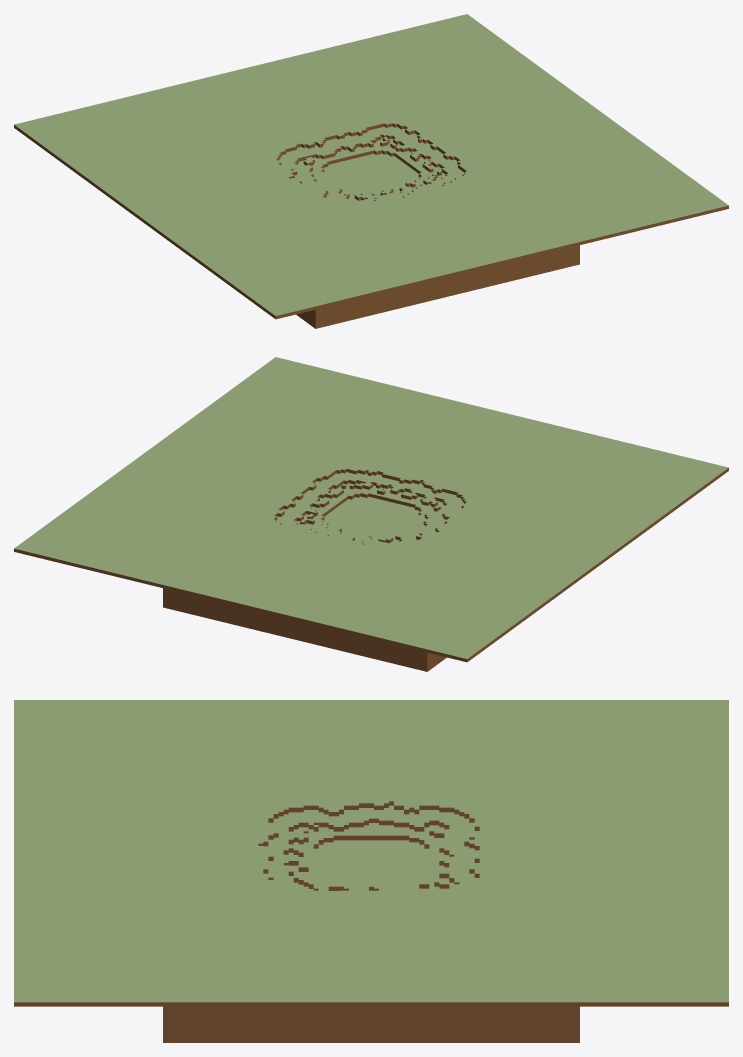
Rendered from Level_platform1,1_bg.fbx.
The picture shows the model from 3 angles, top to bottom: view 1: azimuth 30°, elevation 25°; view 2: azimuth 150°, elevation 25°; view 3: azimuth 270°, elevation 25°; orthographic projection. The views are drawn at different scales.
Visible parts, largest first — view 1: Cube.001; view 2: Cube.001; view 3: Cube.001.
Part boxes in pixels (<box>): Cube.001: <box>14,14,728,328</box>; Cube.001: <box>14,357,728,671</box>; Cube.001: <box>14,700,728,1042</box>.
Size of the model in its own units: 14400 by 2300 by 14400.
